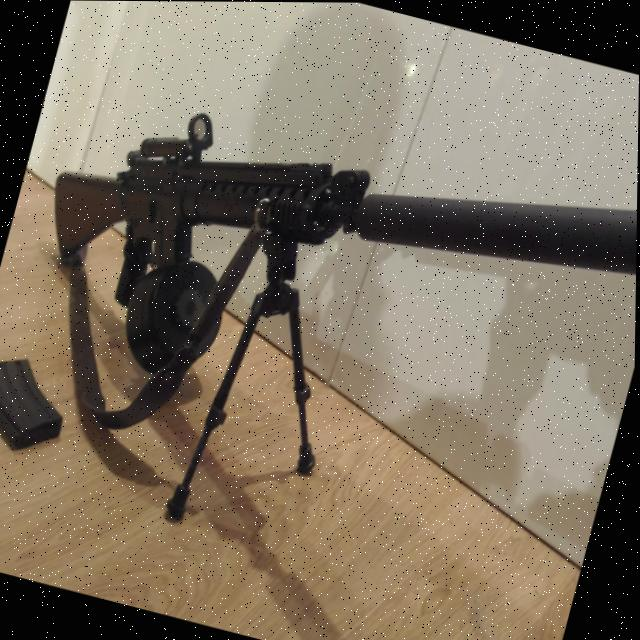firearm: (13, 64, 639, 481)
